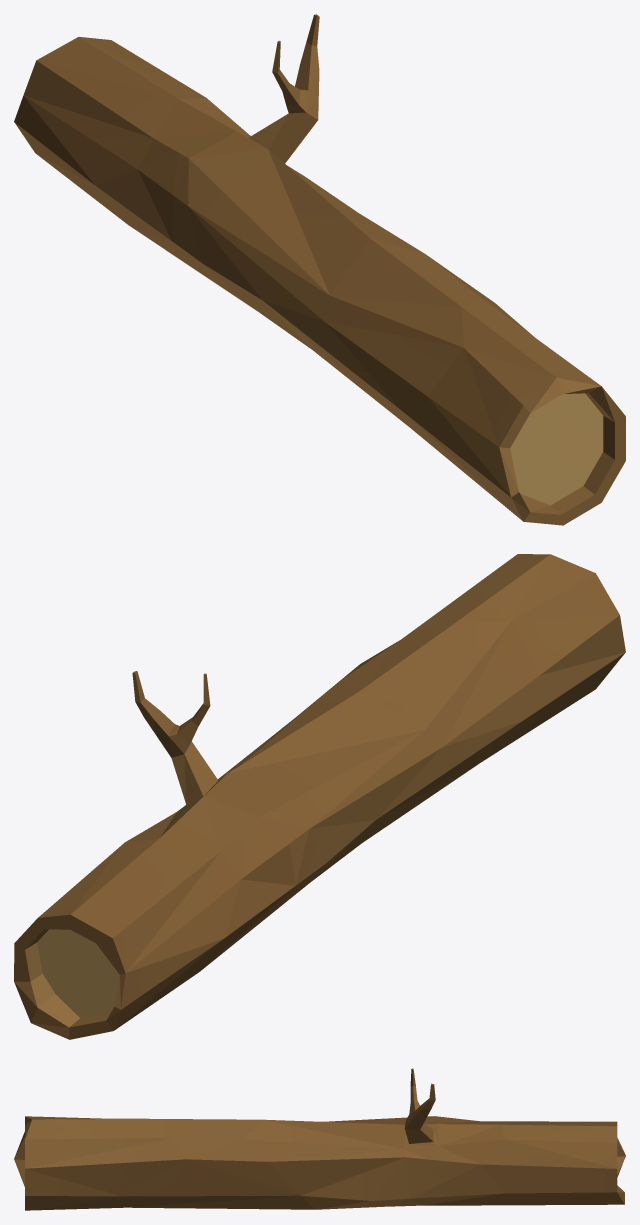
The model's file is log_2.obj.
3 renders of one model, top to bottom at view 1: azimuth 30°, elevation 25°; view 2: azimuth 150°, elevation 25°; view 3: azimuth 270°, elevation 25°, orthographic. The views are drawn at different scales.
Visible parts, largest first — view 1: log_2_Material; view 2: log_2_Material; view 3: log_2_Material.
Part boxes in pixels (x1,y1,x2,y2): log_2_Material: [14, 14, 625, 525]; log_2_Material: [14, 554, 625, 1039]; log_2_Material: [14, 1068, 625, 1210].
Bounding box in the file's own units: 0.1991 × 0.2961 × 1.1.
